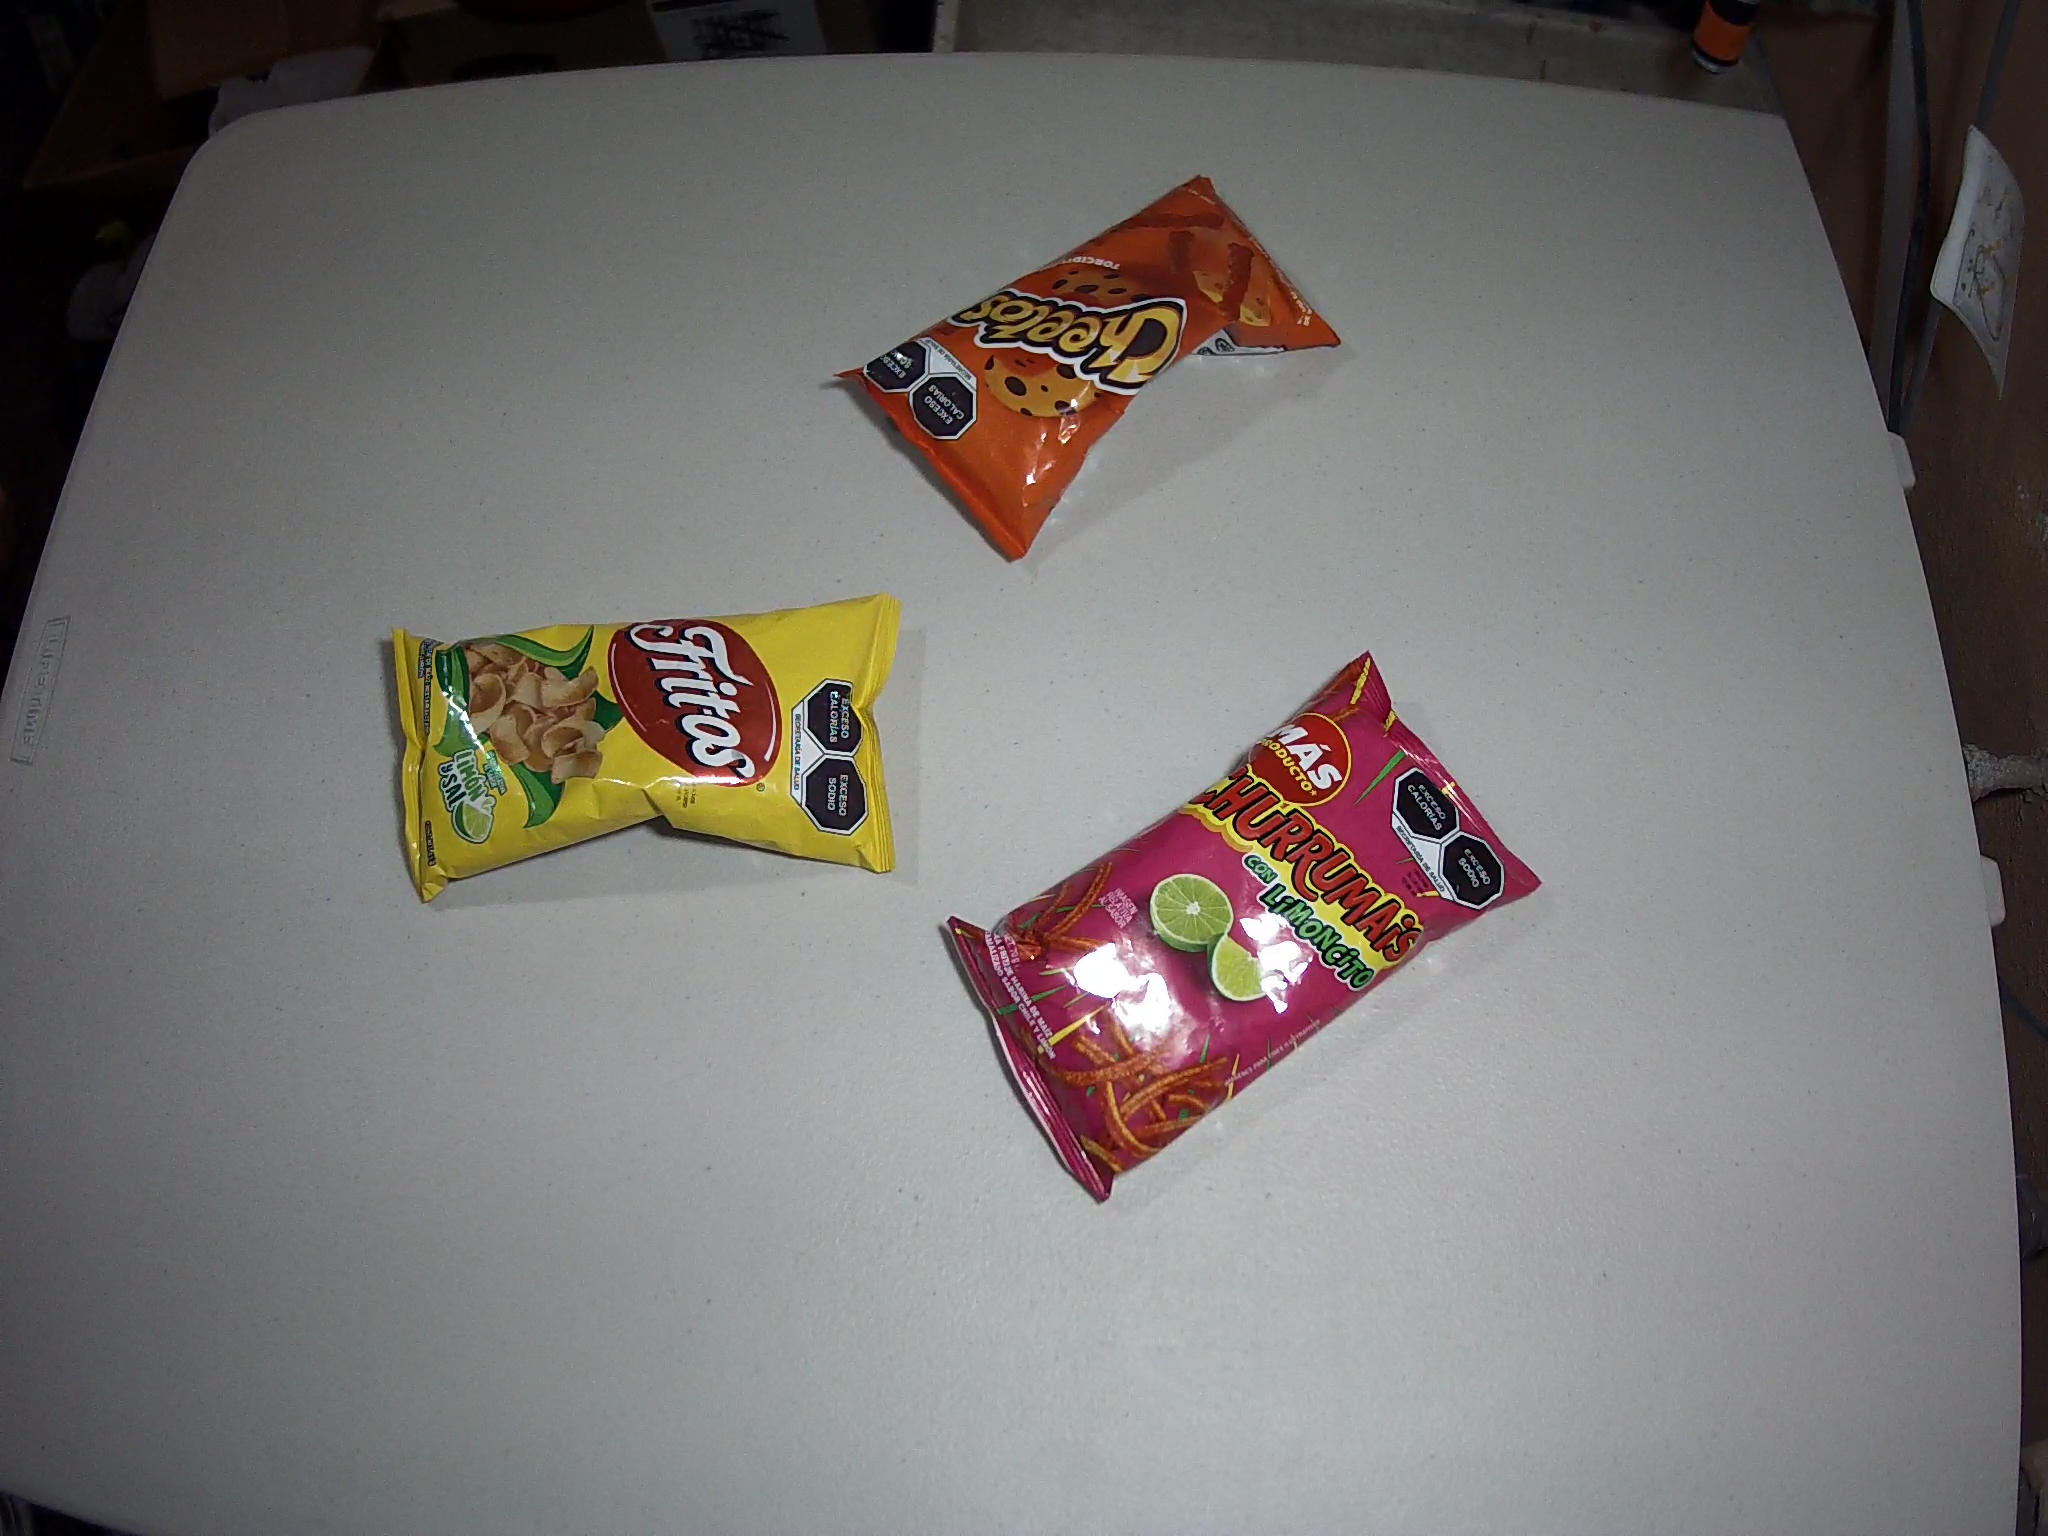CheetosTorciditos_55_F: (834, 173, 1343, 561)
Churrumais_70_F: (947, 649, 1545, 1202)
FritosSalLimon_65_F: (389, 595, 900, 904)
